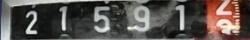digits: (93, 5, 110, 32), (134, 5, 150, 31), (24, 9, 38, 34), (216, 18, 232, 36), (175, 4, 185, 30), (58, 6, 67, 30)
